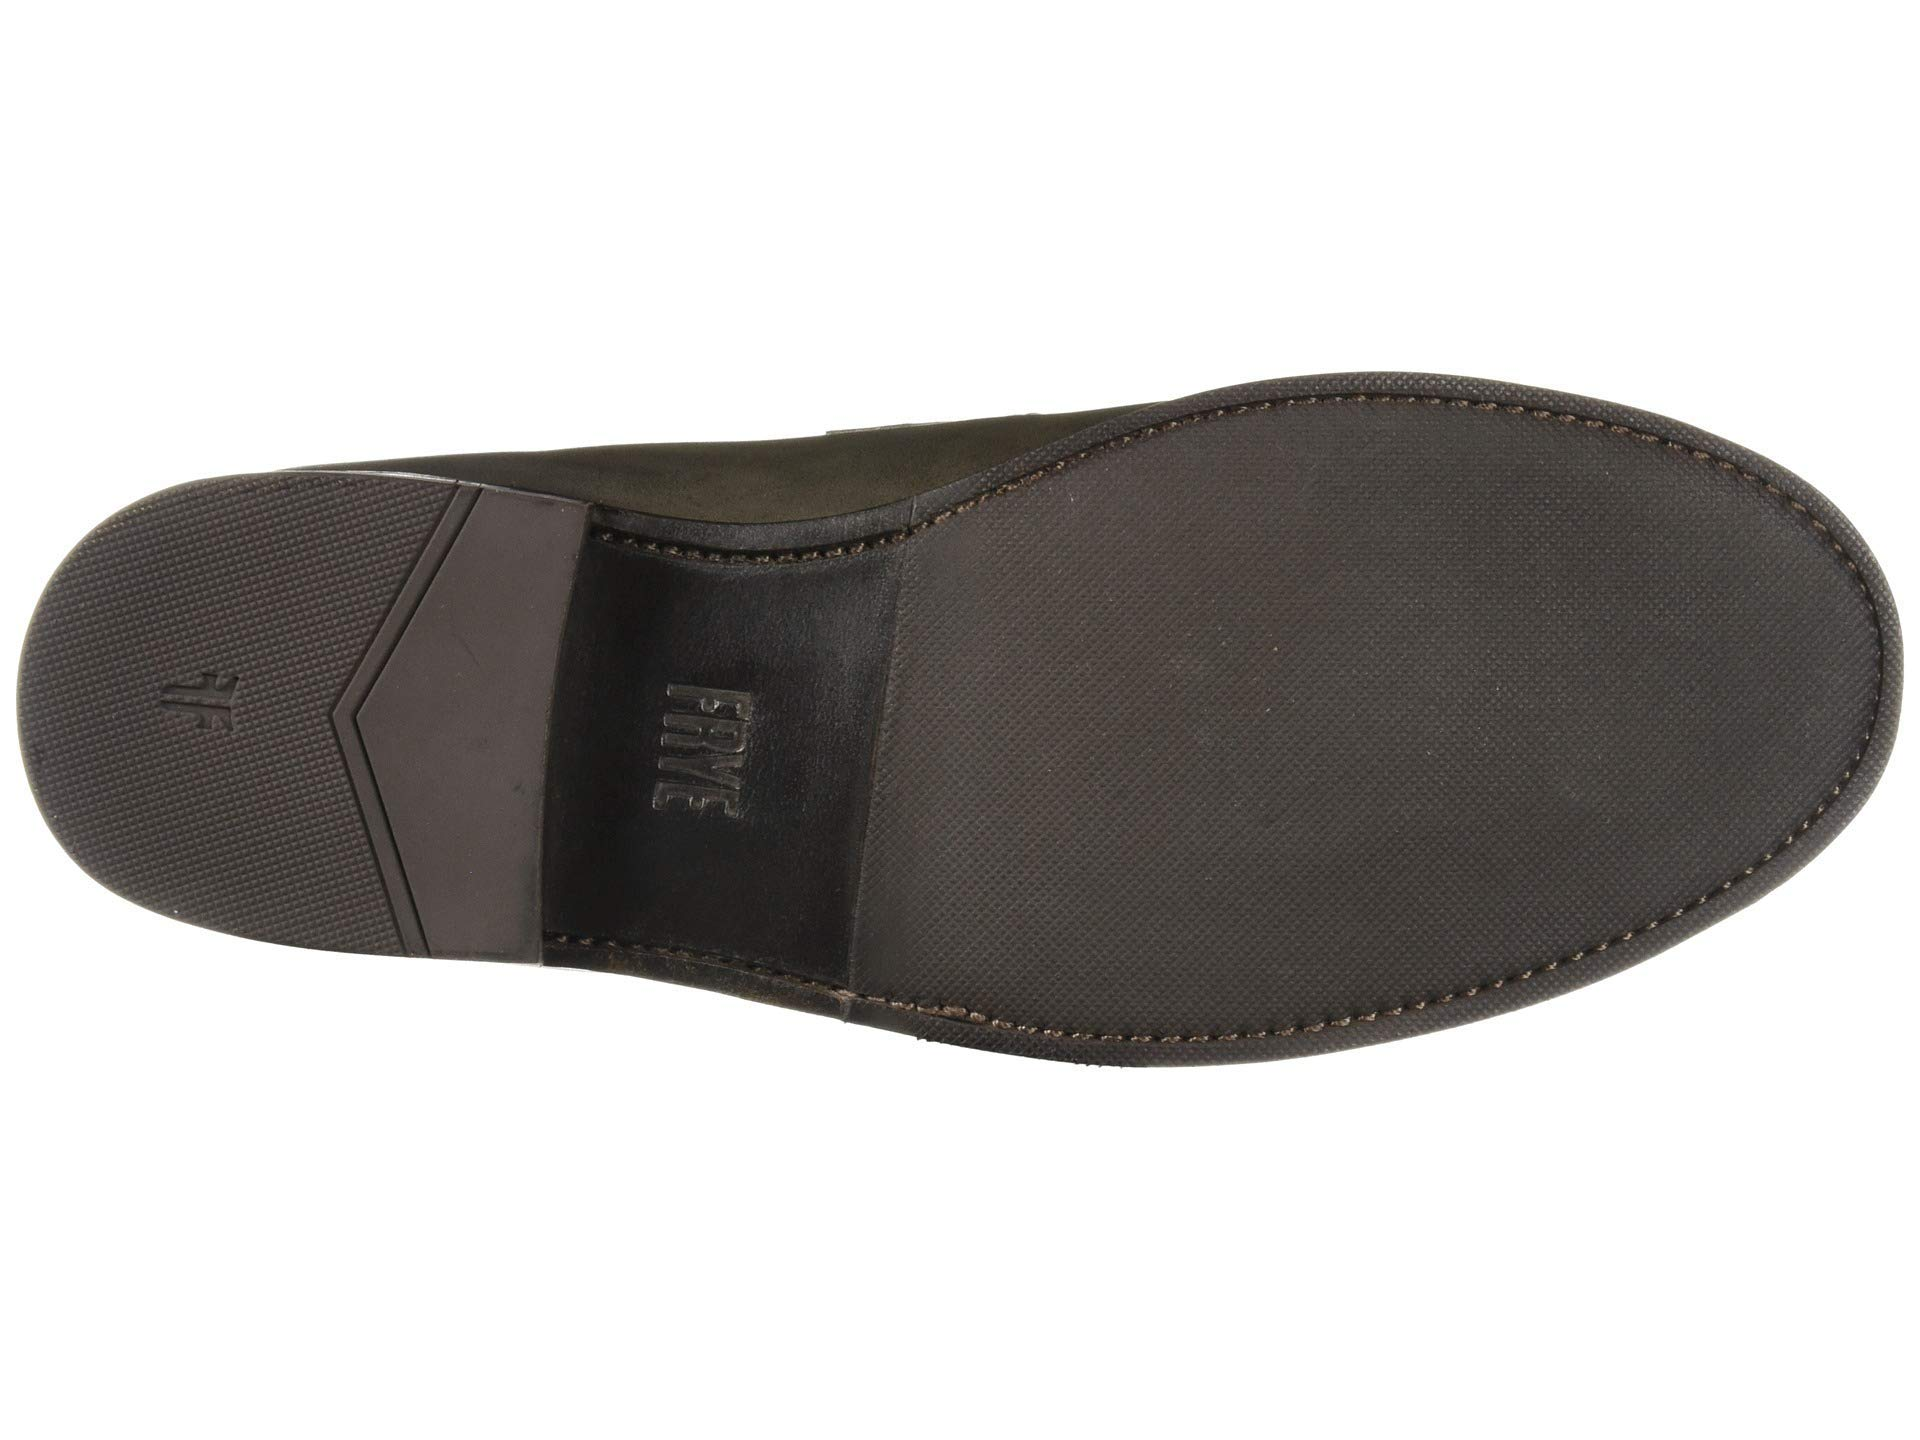chevron: (272, 628, 432, 835)
